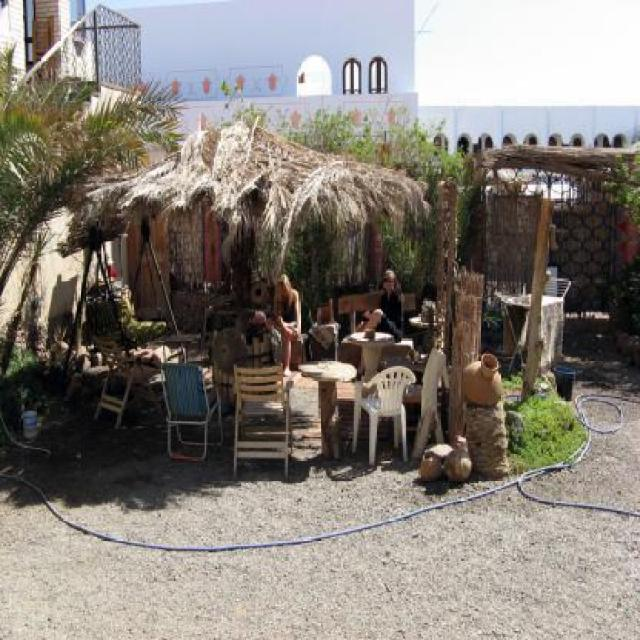Person: (351, 269, 403, 380), (264, 275, 302, 376)
